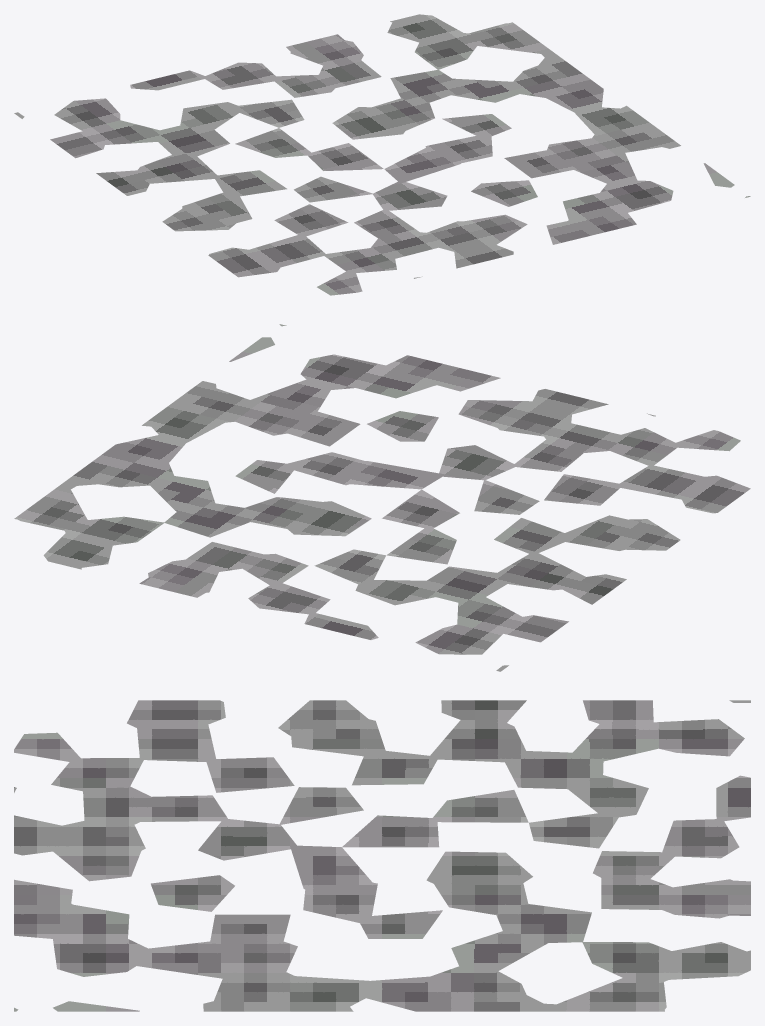
3 views of the same model, one above another, from view 1: azimuth 30°, elevation 25°; view 2: azimuth 150°, elevation 25°; view 3: azimuth 270°, elevation 25° (orthographic). The views are drawn at different scales.
Parts seen in each view (by area): view 1: Segment_001; view 2: Segment_001; view 3: Segment_001.
Boxes of the visible parts, <box> form: Segment_001: <box>14,14,750,295</box>; Segment_001: <box>14,324,750,671</box>; Segment_001: <box>14,700,750,1011</box>.
Bounding box in the file's own units: 10000 × 0 × 10000.
1 material, 1 textured.
